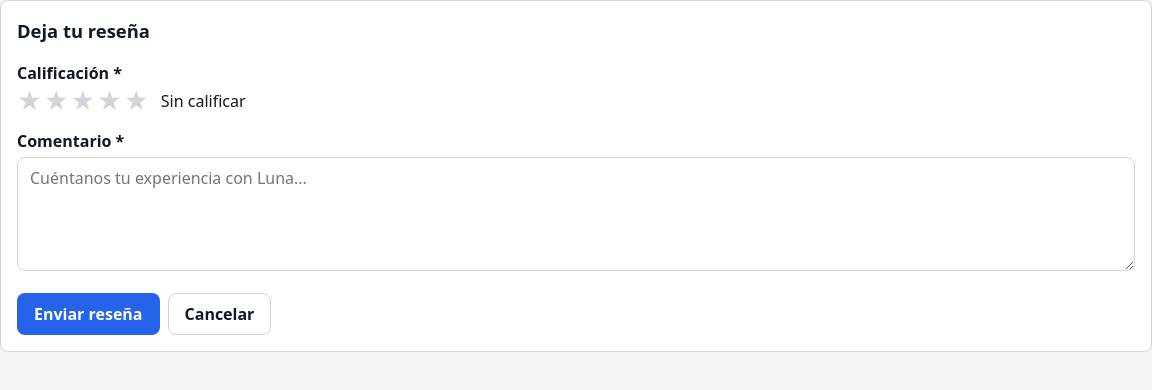
Test: ReviewForm › shows an error message when sending fails
This screenshot has width=1152, height=390.
Click the button named "3 de 5" at point(83, 101), box [70, 89, 95, 113]
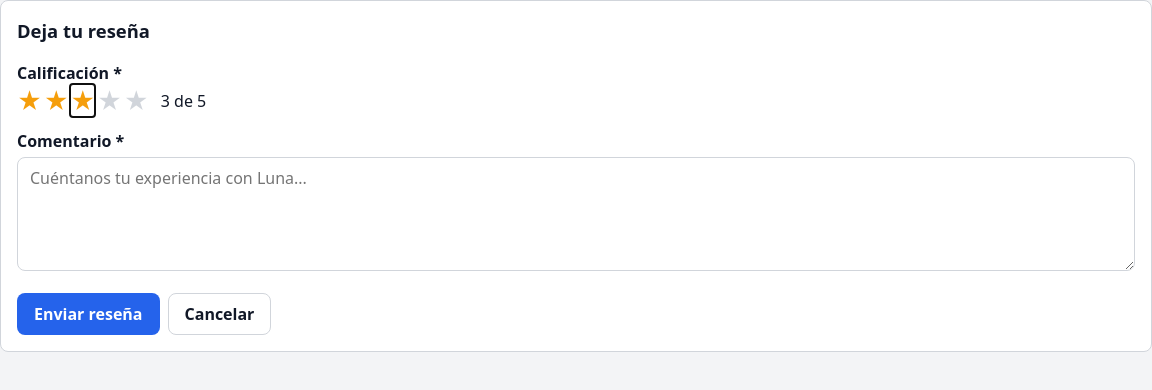
Type "Hola" into the text box labelled "Comentario *" at point(576, 214), box [17, 157, 1135, 271]
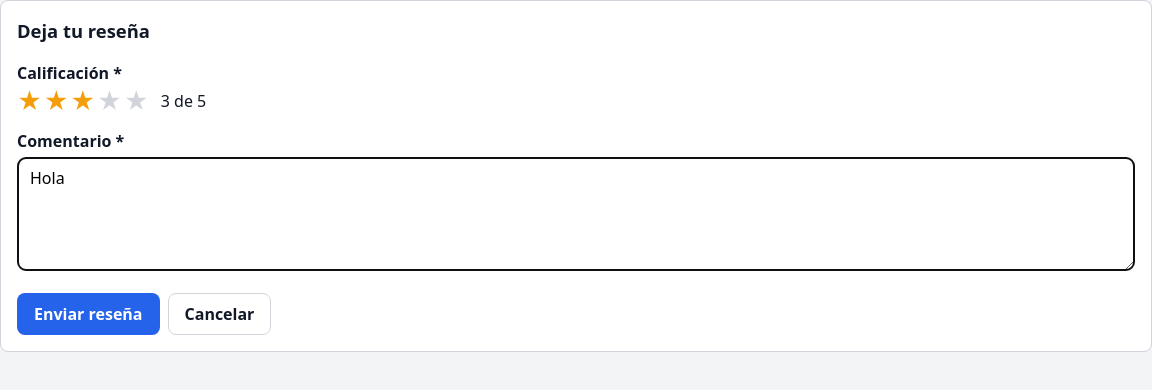
Click the button "Enviar reseña" at point(88, 314), box [17, 293, 160, 335]
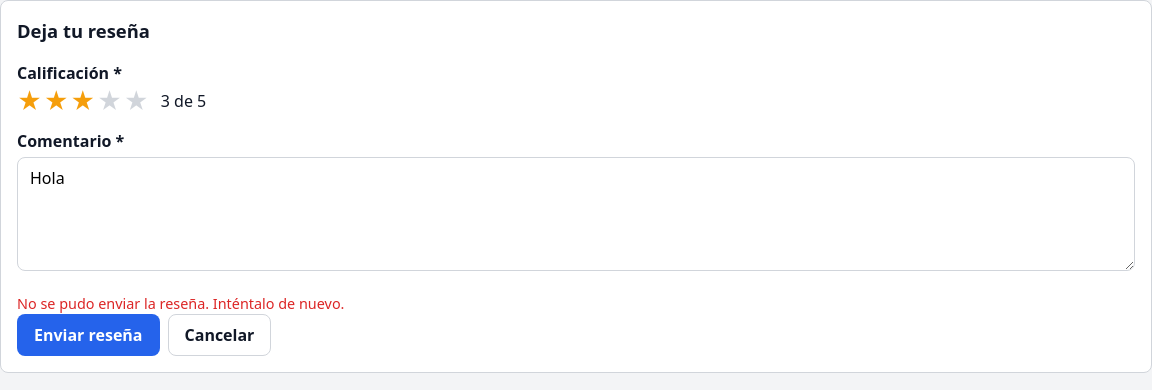
Check: the text "No se pudo enviar la reseña. Inténtalo de nuevo." is shown, box [17, 294, 344, 313]
